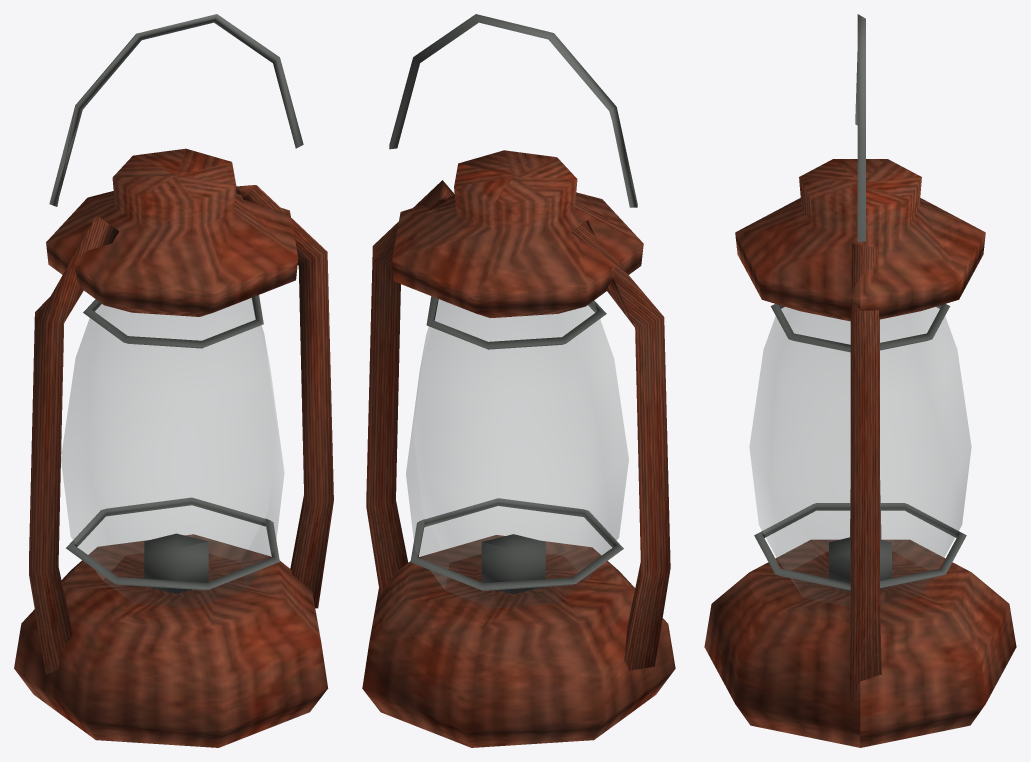
File: prop_lantern_lod2.glb
3 views of the same model, side by side, from view 1: azimuth 30°, elevation 25°; view 2: azimuth 150°, elevation 25°; view 3: azimuth 270°, elevation 25° (orthographic).
Parts seen in each view (by area): view 1: prop_lantern; view 2: prop_lantern; view 3: prop_lantern.
Boxes of the visible parts, x1,y1,x2,y2 form: prop_lantern: (14, 14, 333, 747); prop_lantern: (362, 14, 675, 747); prop_lantern: (704, 14, 1016, 747).
Size of the model in its own units: 0.1434 by 0.3 by 0.1294.
3 materials, 1 textured.
